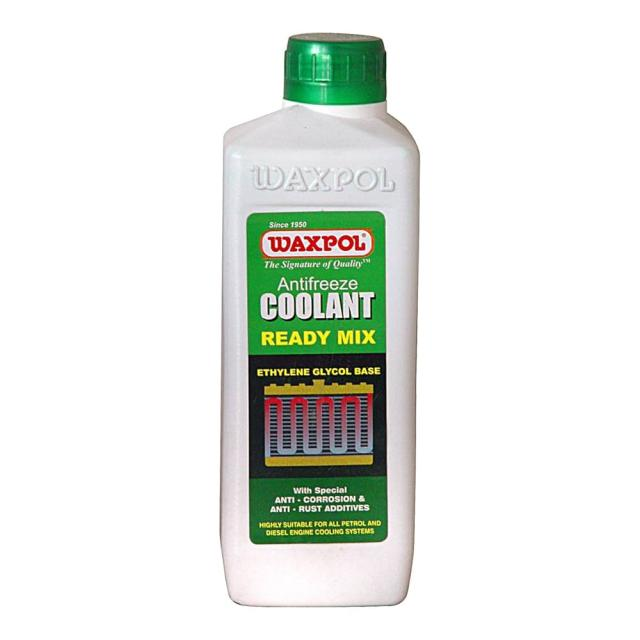coolant: (204, 24, 423, 615)
